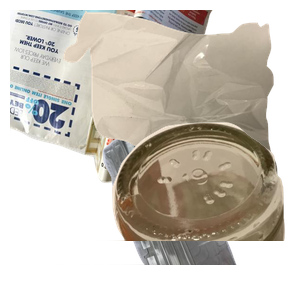glass: (89, 120, 300, 300)
paper: (10, 10, 215, 186)
plastic: (55, 120, 284, 300)
trash: (61, 10, 300, 190)
